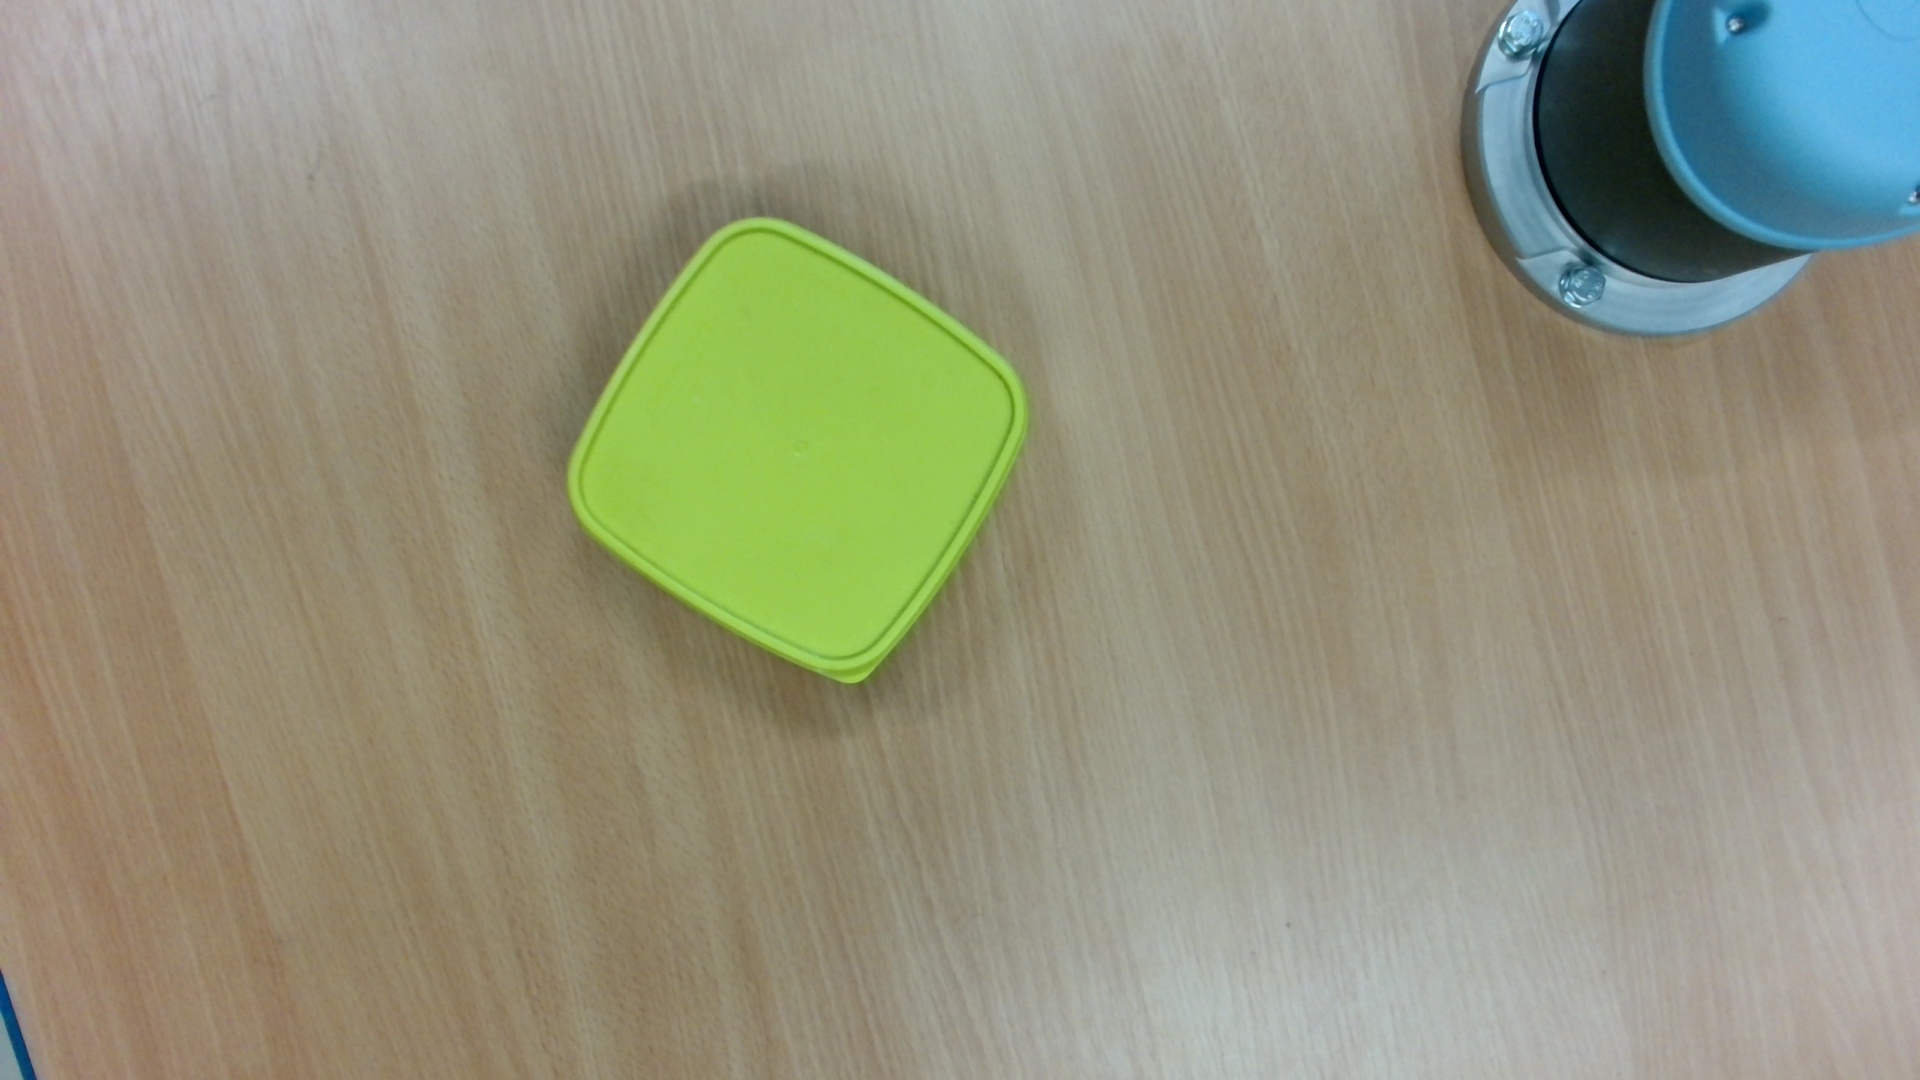Box: (559, 211, 1039, 694)
